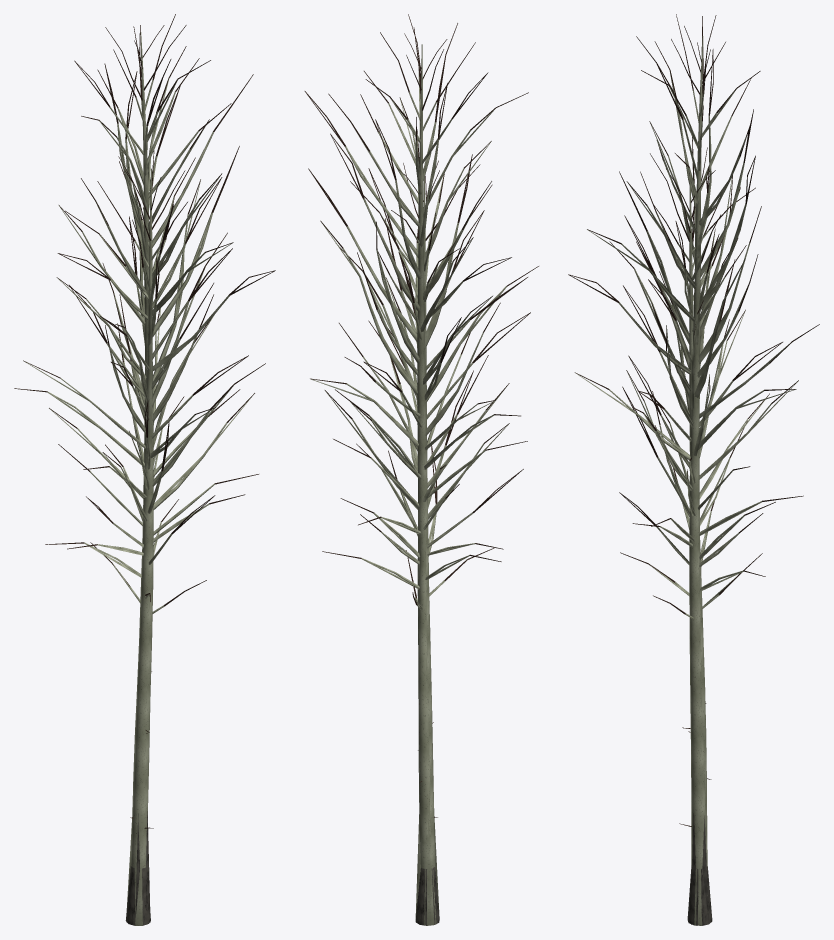
File: aspen_wood.glb
3 views of the same model, side by side, from view 1: azimuth 30°, elevation 25°; view 2: azimuth 150°, elevation 25°; view 3: azimuth 270°, elevation 25° (orthographic).
Parts seen in each view (by area): view 1: aspen_a, aspen_a_l1, aspen_b, aspen_b_l1, aspen_a_l2; view 2: aspen_a, aspen_b, aspen_a_l1, aspen_b_l1, aspen_a_l2; view 3: aspen_a, aspen_a_l1, aspen_b, aspen_b_l1, aspen_a_l2.
Boxes of the visible parts, x1=… form: aspen_a: x1=14, y1=14, x2=275, y2=925; aspen_a_l1: x1=17, y1=25, x2=274, y2=924; aspen_b: x1=23, y1=150, x2=265, y2=798; aspen_b_l1: x1=24, y1=158, x2=265, y2=782; aspen_a_l2: x1=126, y1=84, x2=153, y2=924; aspen_a: x1=305, y1=14, x2=538, y2=925; aspen_b: x1=322, y1=160, x2=530, y2=843; aspen_a_l1: x1=305, y1=32, x2=528, y2=925; aspen_b_l1: x1=324, y1=170, x2=530, y2=841; aspen_a_l2: x1=415, y1=54, x2=439, y2=925; aspen_a: x1=568, y1=14, x2=819, y2=925; aspen_a_l1: x1=569, y1=16, x2=795, y2=925; aspen_b: x1=619, y1=147, x2=798, y2=831; aspen_b_l1: x1=619, y1=176, x2=798, y2=606; aspen_a_l2: x1=691, y1=41, x2=708, y2=924.
Bounding box in the file's own units: 5.41 × 20.27 × 5.15.
3 materials, 3 textured.
